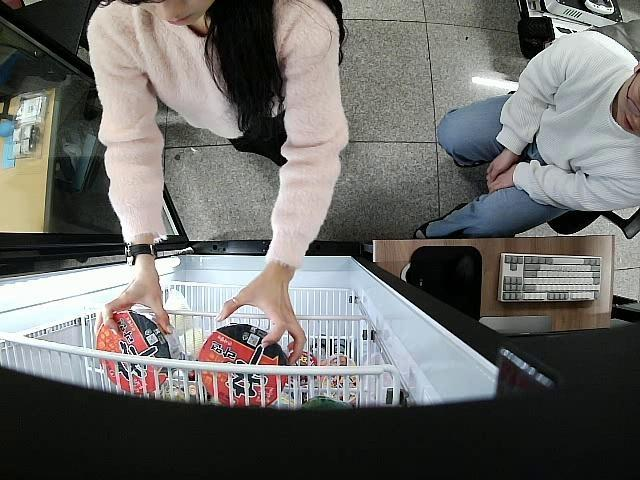01_ShinRamen_L: (198, 323, 287, 408), (96, 308, 180, 392)
